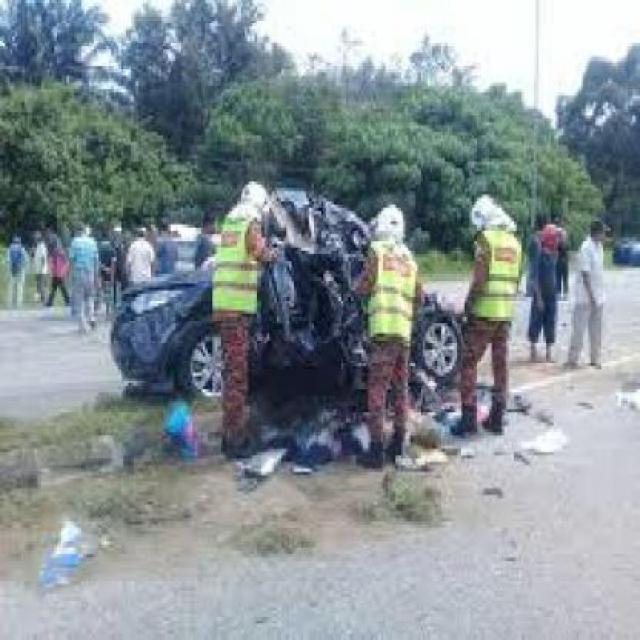accident: (114, 164, 500, 471)
